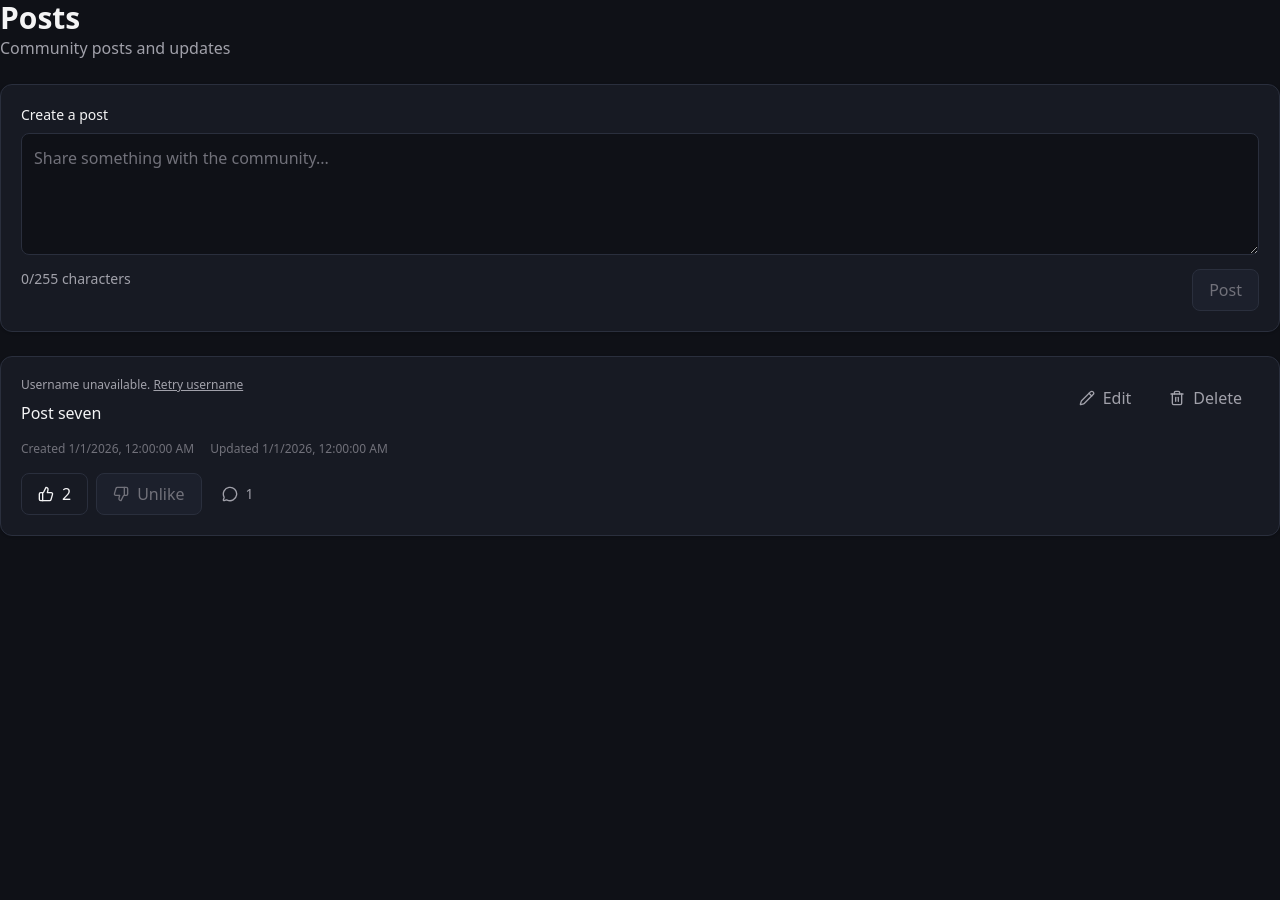
Test: post pagination and errors › shows the empty state when the last post on the first page is deleted
What coordinates should you click on to do the following:
click the button with aria-label "Delete post 7"
I would click on:
 (1206, 398)
Its box is [1152,377,1259,419].
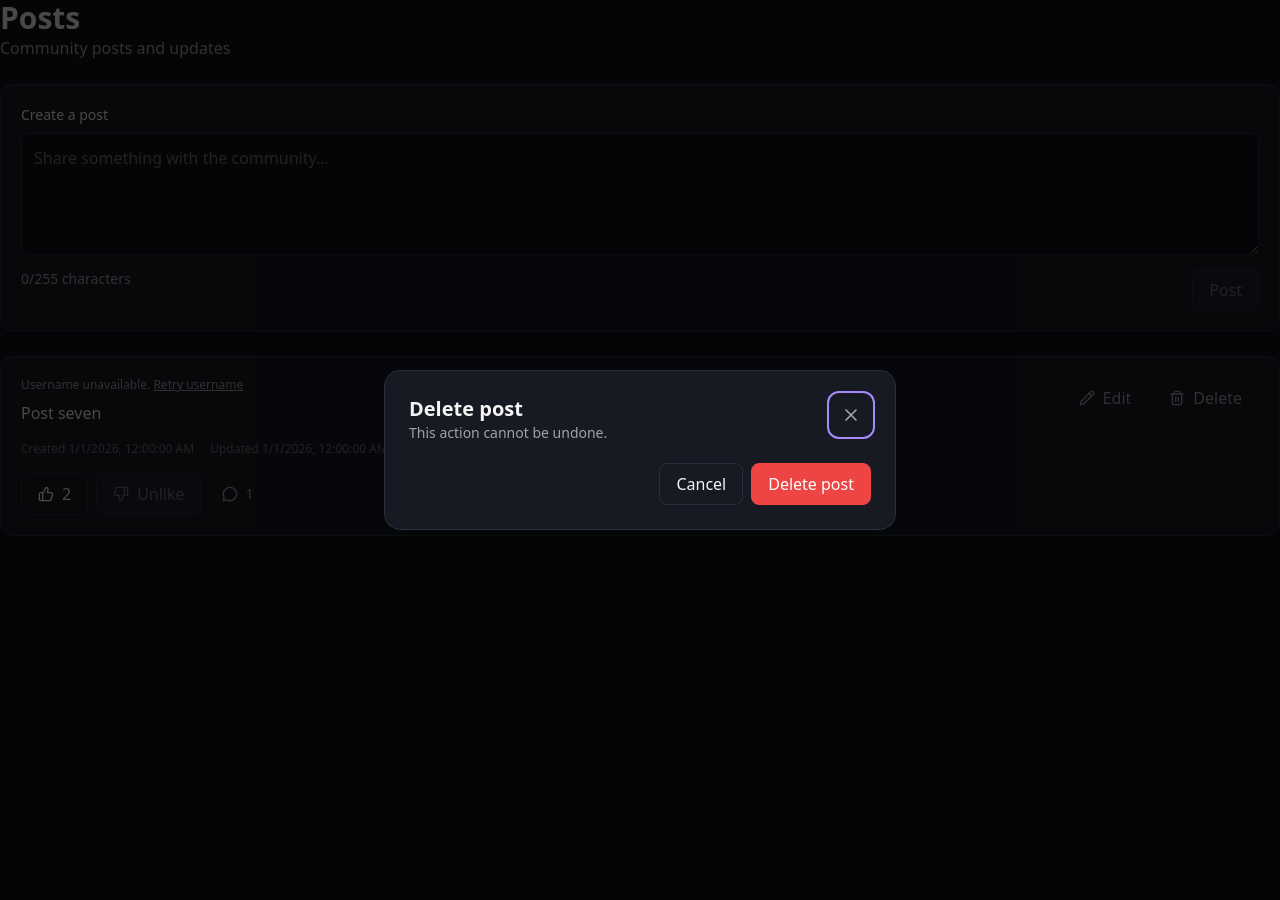
What coordinates should you click on to do the following:
click the button "Delete post"
I would click on:
 (811, 484)
Its box is [751,463,871,505].
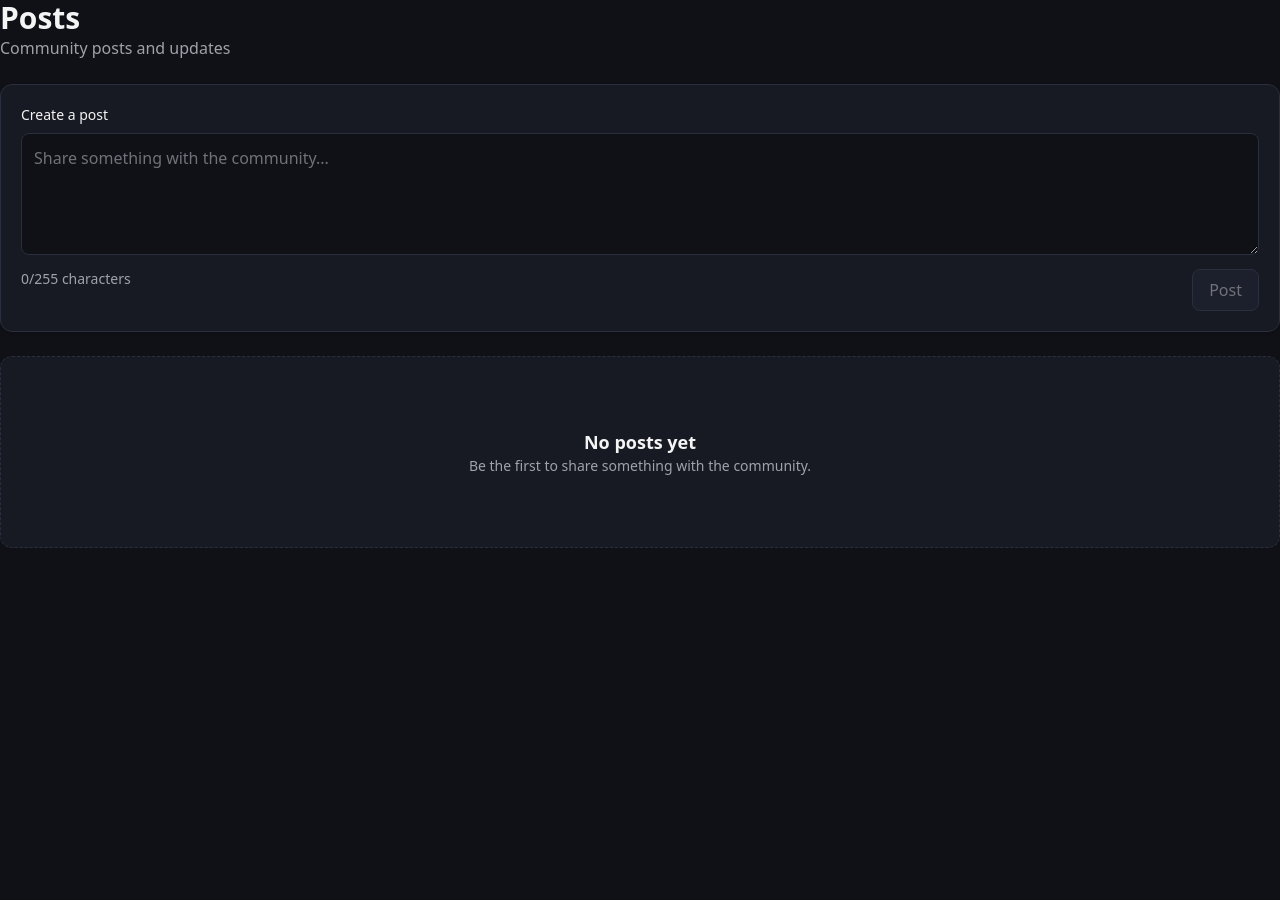
Expected: the heading "No posts yet" is shown, [584,428,696,456]
